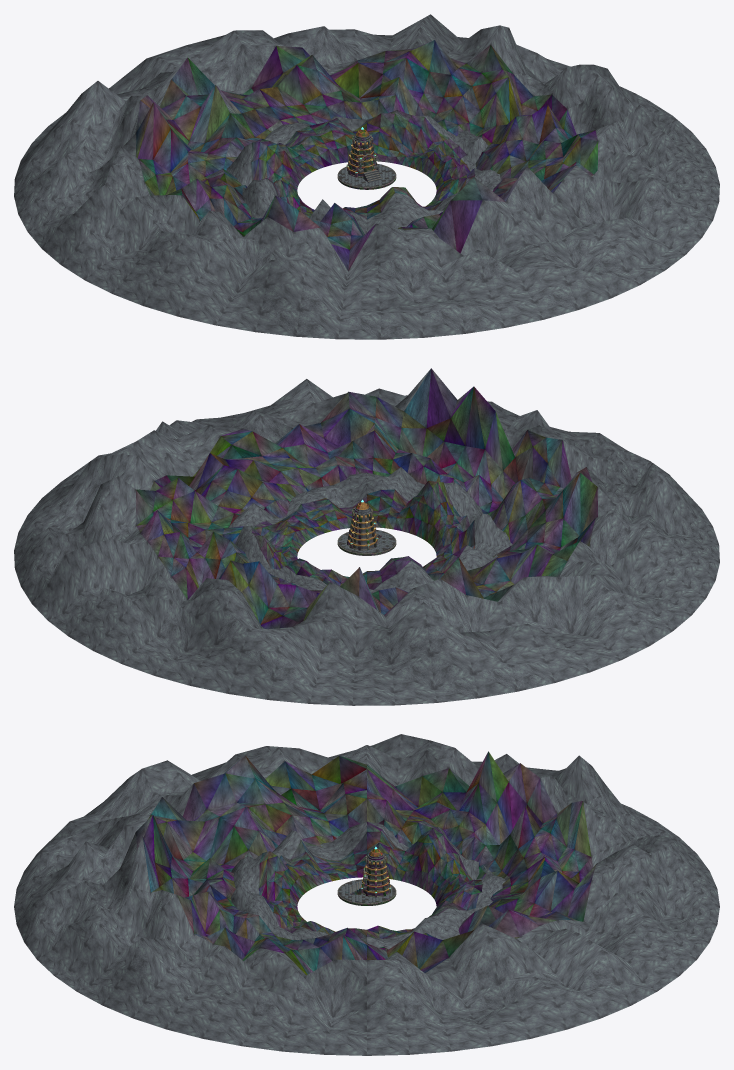
Rendered from tower.glb.
The picture shows the model from 3 angles, top to bottom: view 1: azimuth 30°, elevation 25°; view 2: azimuth 150°, elevation 25°; view 3: azimuth 270°, elevation 25°; orthographic projection.
Visible parts, largest first — view 1: Glacial bedrock, Weathered granite, Carved limestone, Basalt; view 2: Glacial bedrock, Weathered granite, Carved limestone, Basalt; view 3: Glacial bedrock, Weathered granite, Carved limestone, Basalt.
Boxes of the visible parts, x1,y1,x2,y2 form: Glacial bedrock: (14, 14, 719, 339); Weathered granite: (338, 134, 396, 186); Carved limestone: (337, 135, 396, 188); Basalt: (337, 143, 396, 189); Glacial bedrock: (14, 368, 719, 705); Weathered granite: (338, 507, 395, 552); Carved limestone: (337, 507, 396, 554); Basalt: (337, 516, 396, 555); Glacial bedrock: (14, 734, 719, 1055); Weathered granite: (338, 854, 392, 903); Carved limestone: (337, 854, 396, 904); Basalt: (337, 864, 396, 905).
Size of the model in its own units: 142 by 20.98 by 142.
Materials: 7 (5 with a texture image).
